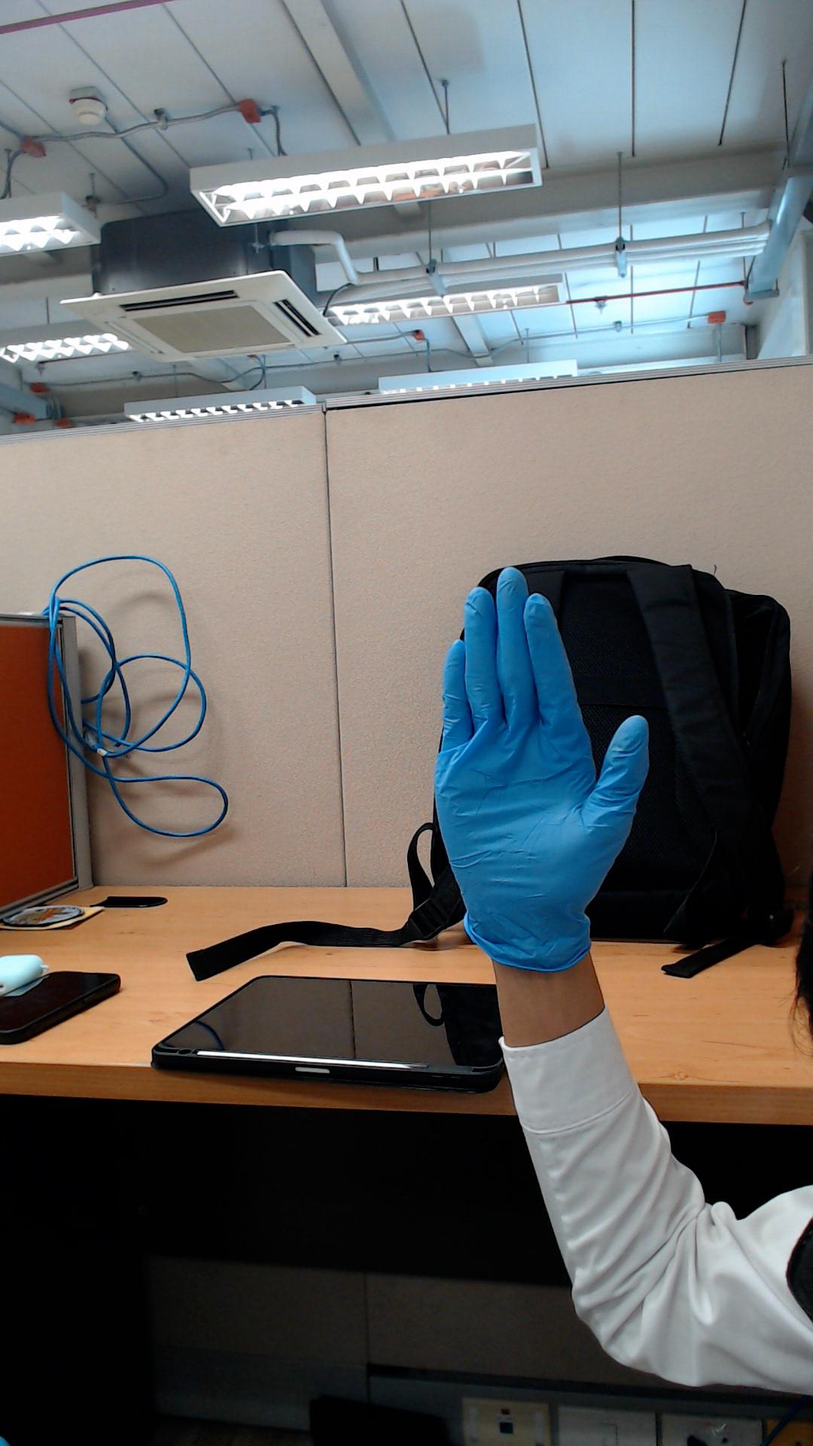gloves: (427, 554, 659, 926)
